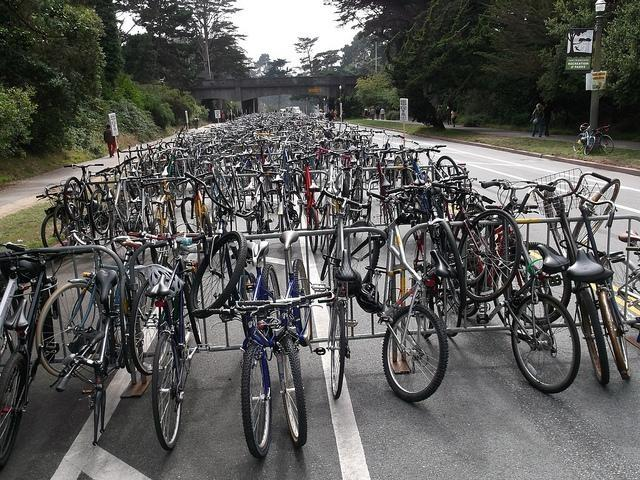bicycle: (348, 176, 452, 398), (194, 239, 280, 460), (478, 244, 582, 394), (1, 250, 71, 463), (51, 268, 135, 444), (143, 246, 206, 454), (277, 228, 332, 449), (429, 182, 524, 305), (321, 194, 372, 402), (318, 186, 337, 254), (287, 156, 308, 206), (157, 148, 184, 176), (248, 139, 264, 150)
